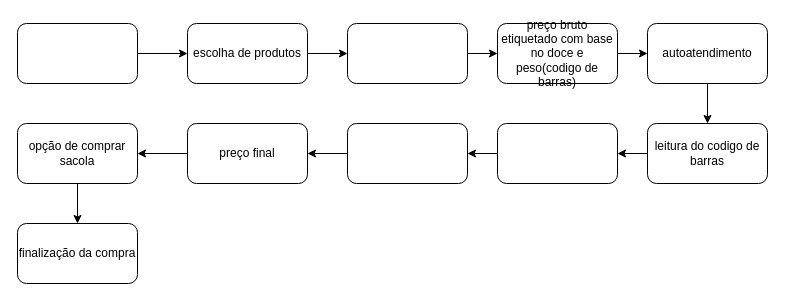
Some shapes in this 785 by 301 pixel diagram are drawn without their labels. The centre of each missing label's shape, as x and y in pixels:
cliente: [77,53]
opção de pagamento(cartão de credito/debito pix): [557,153]
pagamento no pix ou débito possui 10% de desconto: [407,153]
pesagem: [407,53]
